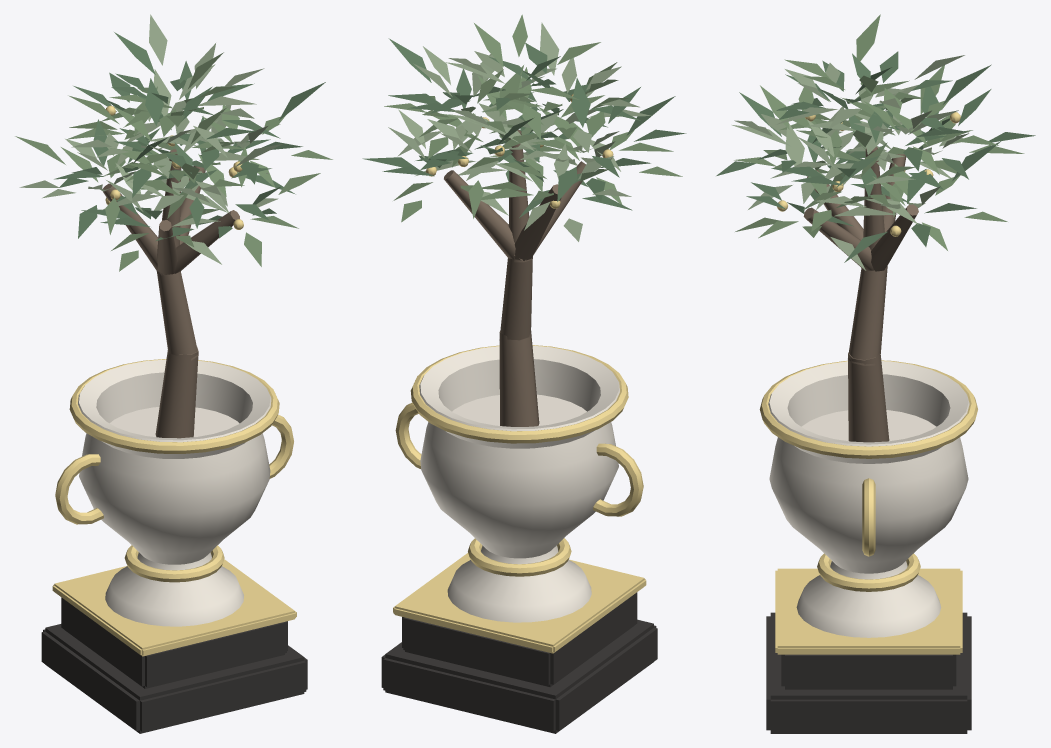
File: atelier_urn_topiary.glb
3 views of the same model, side by side, from view 1: azimuth 30°, elevation 25°; view 2: azimuth 150°, elevation 25°; view 3: azimuth 270°, elevation 25° (orthographic). The views are drawn at different scales.
Visible parts, largest first — view 1: Urn_MediciBody_Limestone, Urn_Plinth_Nero, Urn_TrimAndBerries_Gold, Topiary_Foliage_Deep, Topiary_Trunk_Bark, Topiary_Foliage_Mid, Topiary_Foliage_Silver; view 2: Urn_MediciBody_Limestone, Urn_Plinth_Nero, Urn_TrimAndBerries_Gold, Topiary_Trunk_Bark, Topiary_Foliage_Mid, Topiary_Foliage_Silver, Topiary_Foliage_Deep; view 3: Urn_MediciBody_Limestone, Urn_Plinth_Nero, Urn_TrimAndBerries_Gold, Topiary_Trunk_Bark, Topiary_Foliage_Deep, Topiary_Foliage_Mid, Topiary_Foliage_Silver.
Part boxes in pixels (x1=…): Urn_MediciBody_Limestone: x1=78, y1=359, x2=271, y2=626; Urn_Plinth_Nero: x1=41, y1=597, x2=307, y2=733; Urn_TrimAndBerries_Gold: x1=52, y1=105, x2=296, y2=656; Topiary_Foliage_Deep: x1=54, y1=32, x2=325, y2=241; Topiary_Trunk_Bark: x1=103, y1=149, x2=239, y2=438; Topiary_Foliage_Mid: x1=15, y1=52, x2=332, y2=271; Topiary_Foliage_Silver: x1=19, y1=14, x2=283, y2=264; Urn_MediciBody_Limestone: x1=419, y1=345, x2=619, y2=622; Urn_Plinth_Nero: x1=381, y1=592, x2=657, y2=733; Urn_TrimAndBerries_Gold: x1=393, y1=94, x2=646, y2=653; Topiary_Trunk_Bark: x1=444, y1=130, x2=585, y2=426; Topiary_Foliage_Mid: x1=384, y1=14, x2=682, y2=222; Topiary_Foliage_Silver: x1=388, y1=22, x2=651, y2=241; Topiary_Foliage_Deep: x1=362, y1=38, x2=686, y2=217; Urn_MediciBody_Limestone: x1=768, y1=361, x2=969, y2=637; Urn_Plinth_Nero: x1=766, y1=612, x2=971, y2=733; Urn_TrimAndBerries_Gold: x1=759, y1=112, x2=977, y2=654; Topiary_Trunk_Bark: x1=803, y1=146, x2=918, y2=442; Topiary_Foliage_Deep: x1=716, y1=51, x2=1035, y2=262; Topiary_Foliage_Mid: x1=734, y1=14, x2=1024, y2=250; Topiary_Foliage_Silver: x1=732, y1=55, x2=968, y2=270.
Size of the model in its own units: 1.1 by 2.37 by 1.06.
